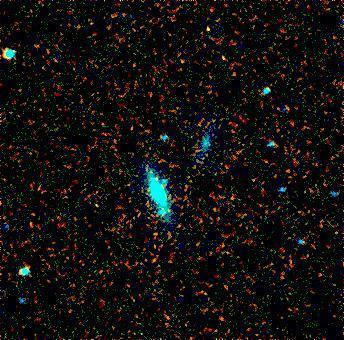star: (139, 163, 169, 193)
